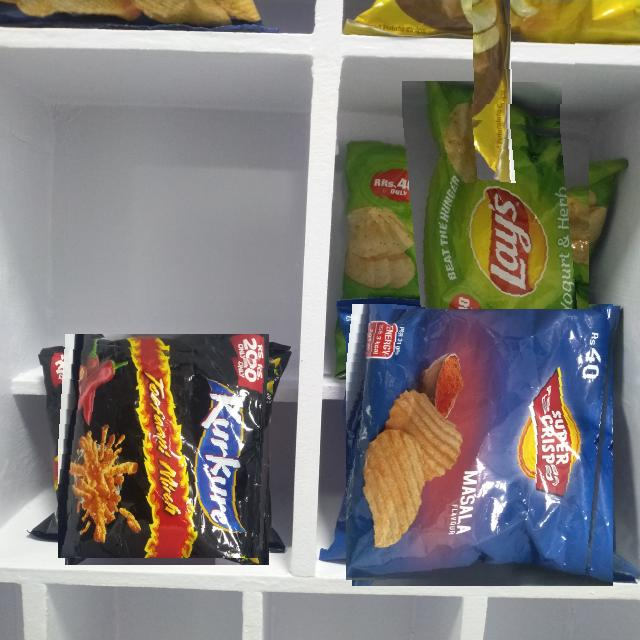Plastic: (346, 309, 618, 581), (58, 341, 275, 558), (373, 109, 589, 325), (407, 0, 575, 104), (480, 3, 486, 5)
